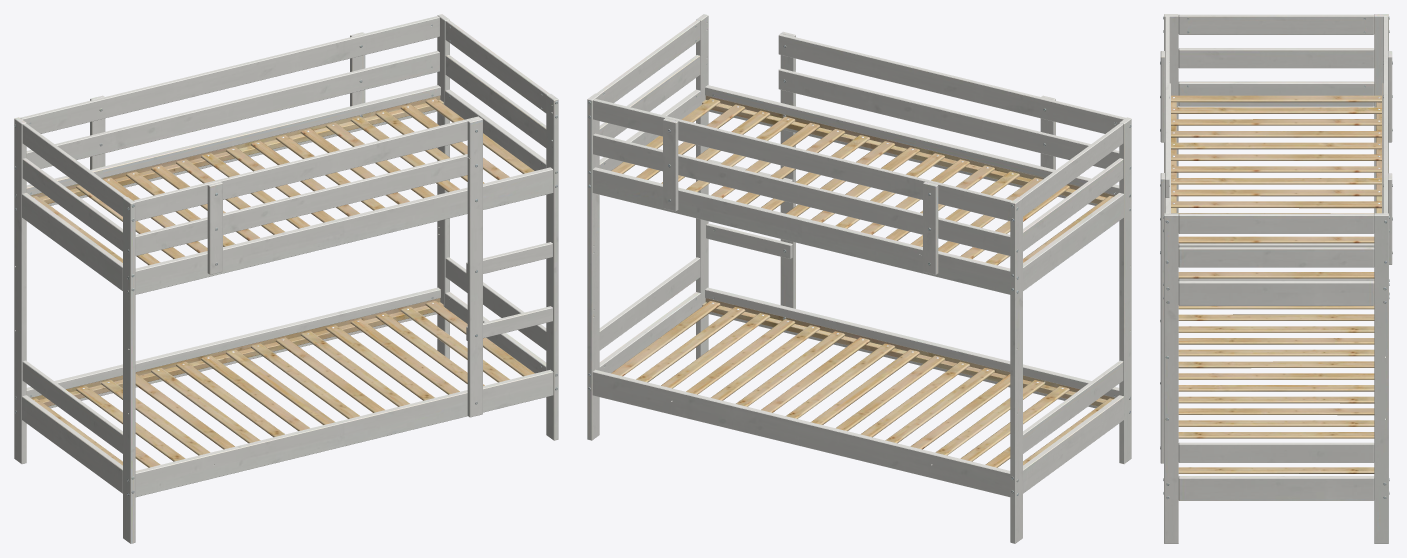
Rendered from mydal_rama_ozka_pietrowego_20467629.glb.
The picture shows the model from 3 angles, left to right: view 1: azimuth 30°, elevation 25°; view 2: azimuth 150°, elevation 25°; view 3: azimuth 270°, elevation 25°; orthographic projection. The views are drawn at different scales.
Visible parts, largest first — view 1: mydal_rama_ozka_pietrowego_20467629; view 2: mydal_rama_ozka_pietrowego_20467629; view 3: mydal_rama_ozka_pietrowego_20467629.
Part boxes in pixels (x1=…): mydal_rama_ozka_pietrowego_20467629: x1=14, y1=14, x2=558, y2=543; mydal_rama_ozka_pietrowego_20467629: x1=587, y1=14, x2=1131, y2=543; mydal_rama_ozka_pietrowego_20467629: x1=1160, y1=14, x2=1392, y2=543.
Bounding box in the file's own units: 2.07 × 1.57 × 1.
1 material, 1 textured.
